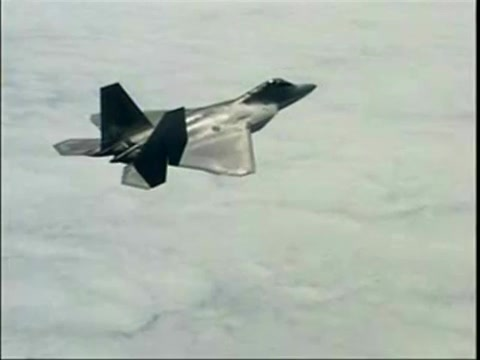aeroplane: (55, 76, 320, 190)
